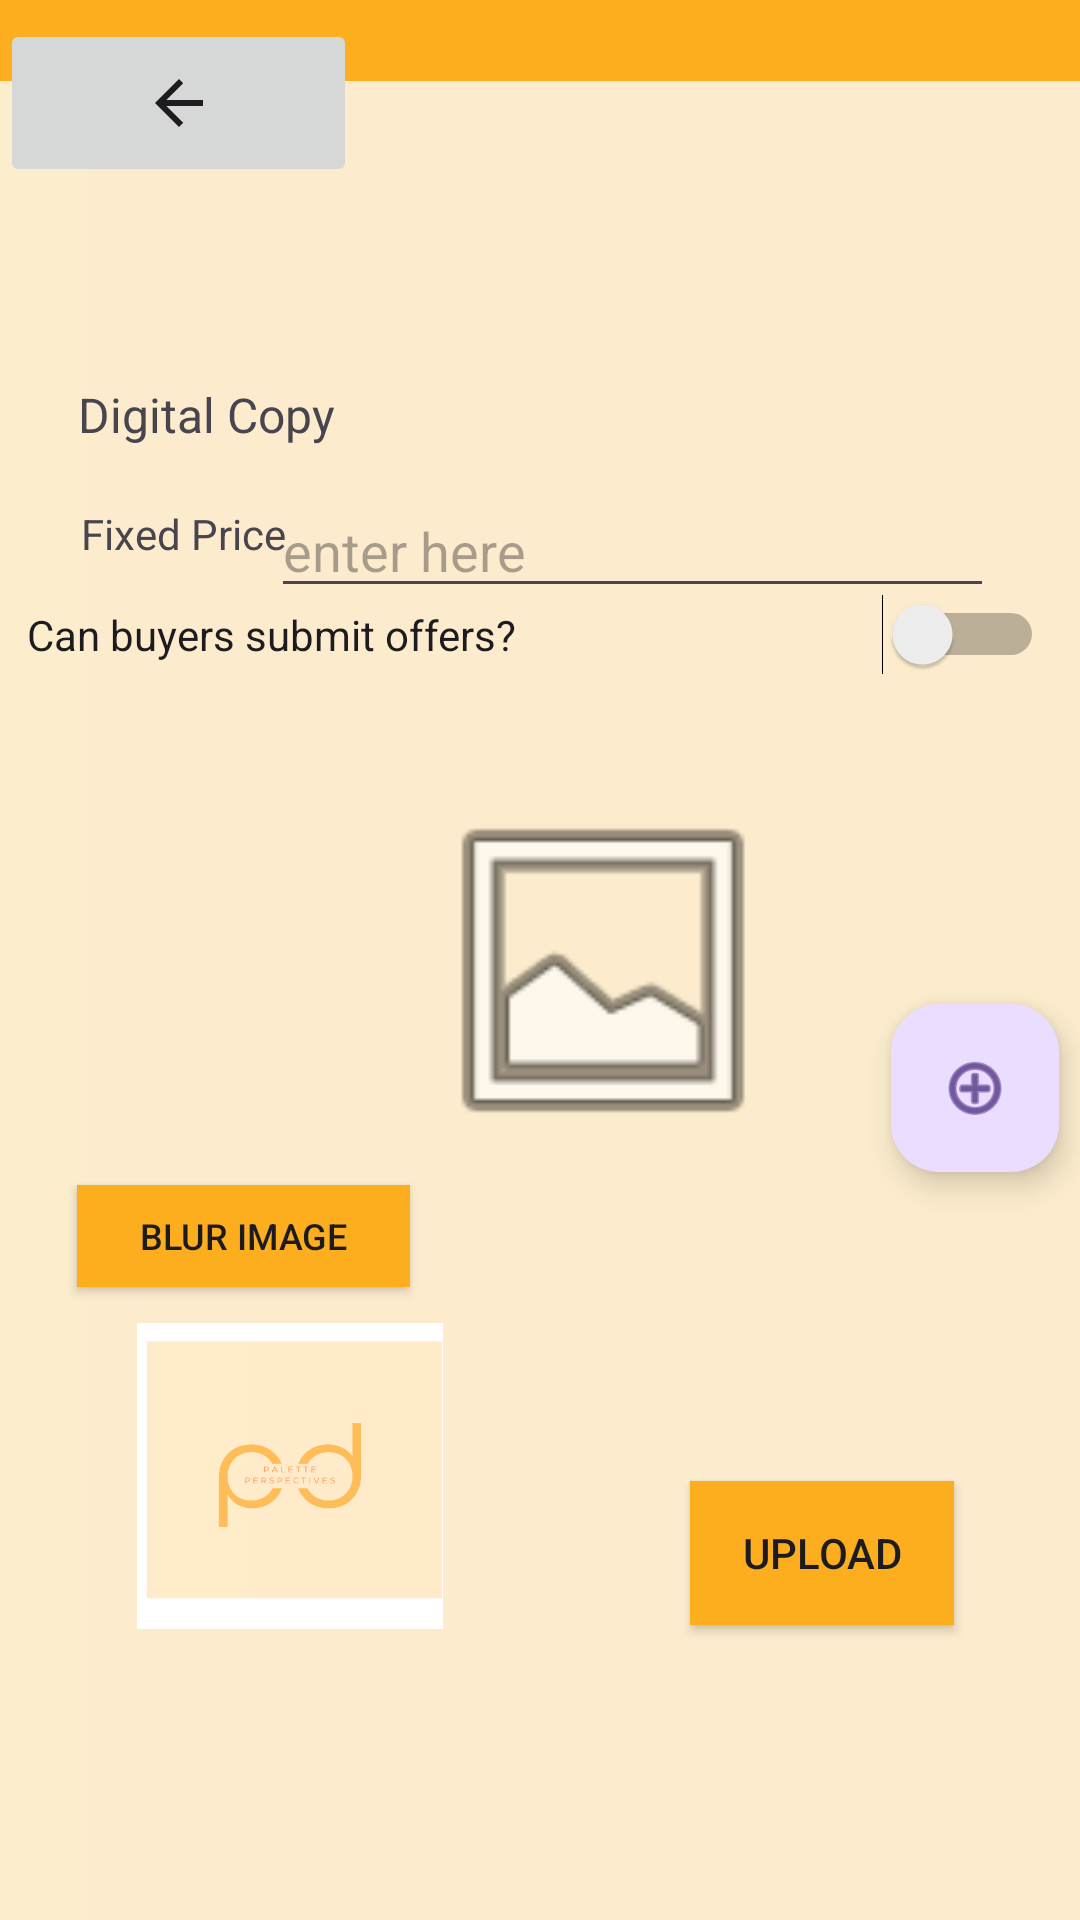

Screen size 1080px×1920px. Icon name, then its box in pixels as bbox=(x1, y1, x2, y2):
add: bbox=(891, 1004, 1059, 1172)
